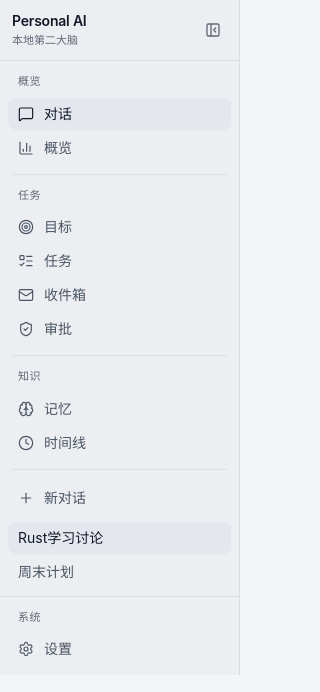
Test: Sidebar › writes 收起侧栏 on the icon when the keyboard lands, and 展开侧栏 after collapsing
Check: the text "Rust学习讨论" is shown, box [18,528,103,546]
Click the button named "收起侧栏" at (213, 30), box [199,16,227,44]
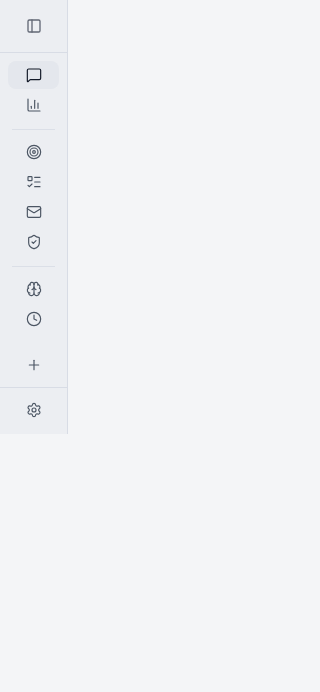
Check: the link "Rust学习讨论" is gone
